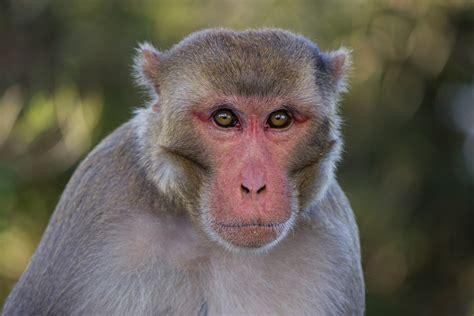monkey: (3, 30, 364, 316)
